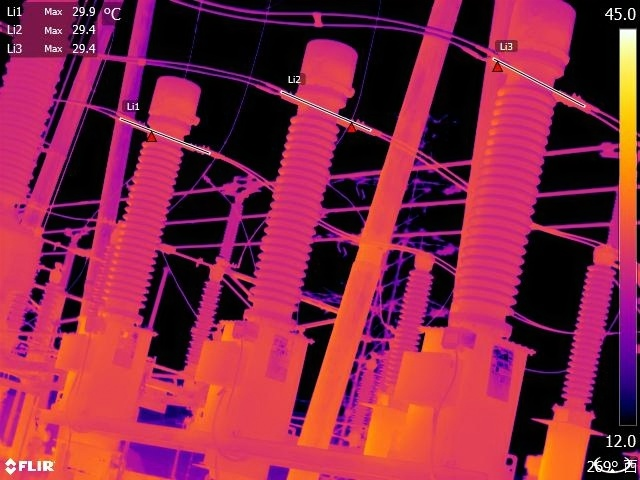current transformer: (379, 1, 583, 450), (198, 33, 368, 440), (57, 64, 206, 425)
post insulator: (1, 1, 79, 216), (548, 247, 617, 426), (373, 253, 438, 405), (175, 267, 232, 381), (24, 262, 71, 356), (213, 199, 246, 265)
